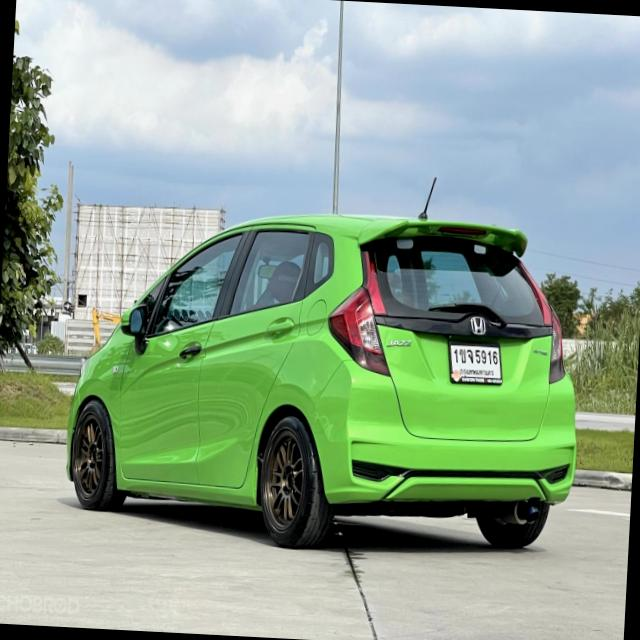license_plate: (444, 337, 506, 388)
